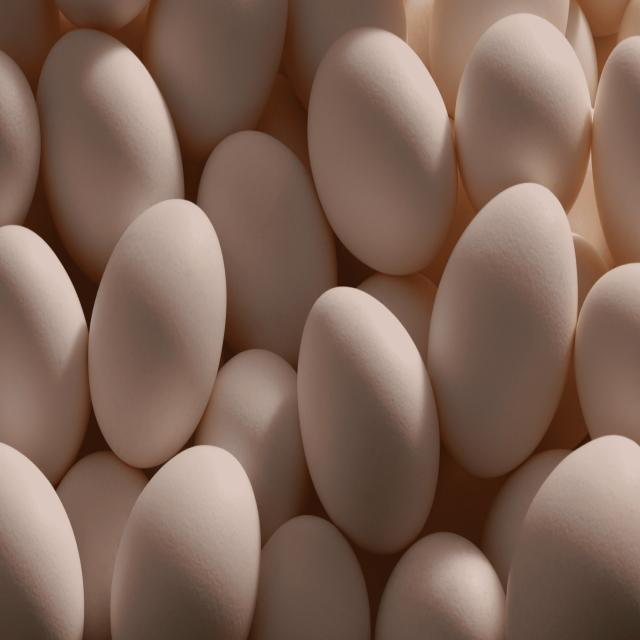huevos: (292, 274, 452, 564)
